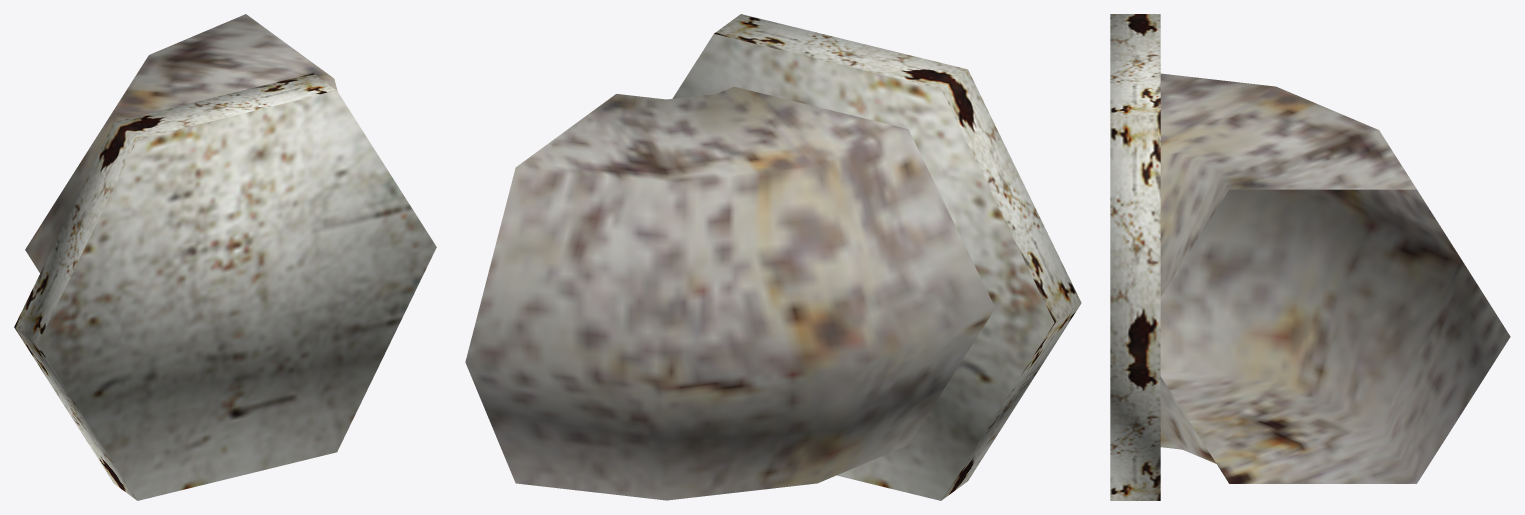
Rendered from large_white_1_elbow_hz.fbx.
The picture shows the model from 3 angles, left to right: view 1: azimuth 30°, elevation 25°; view 2: azimuth 150°, elevation 25°; view 3: azimuth 270°, elevation 25°; orthographic projection. The views are drawn at different scales.
Parts seen in each view (by area): view 1: polySurface643; view 2: polySurface643; view 3: polySurface643.
Boxes of the visible parts, bbox=[...] form: polySurface643: bbox=[14, 14, 436, 500]; polySurface643: bbox=[465, 14, 1081, 500]; polySurface643: bbox=[1110, 14, 1510, 500].
Size of the model in its own units: 1.3 by 1.13 by 1.07.
